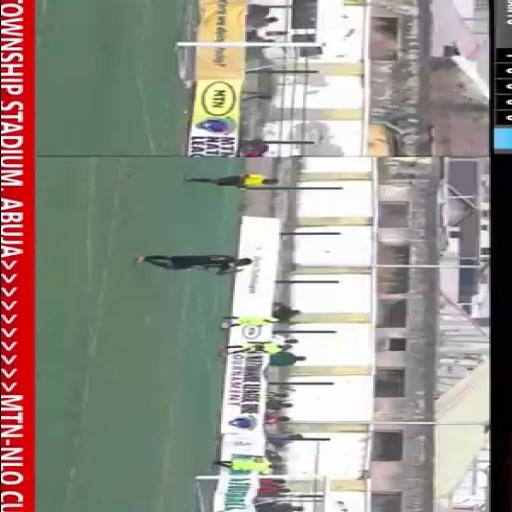distract: (208, 314, 300, 332)
referee: (182, 172, 294, 196)
team2: (122, 244, 268, 282)
